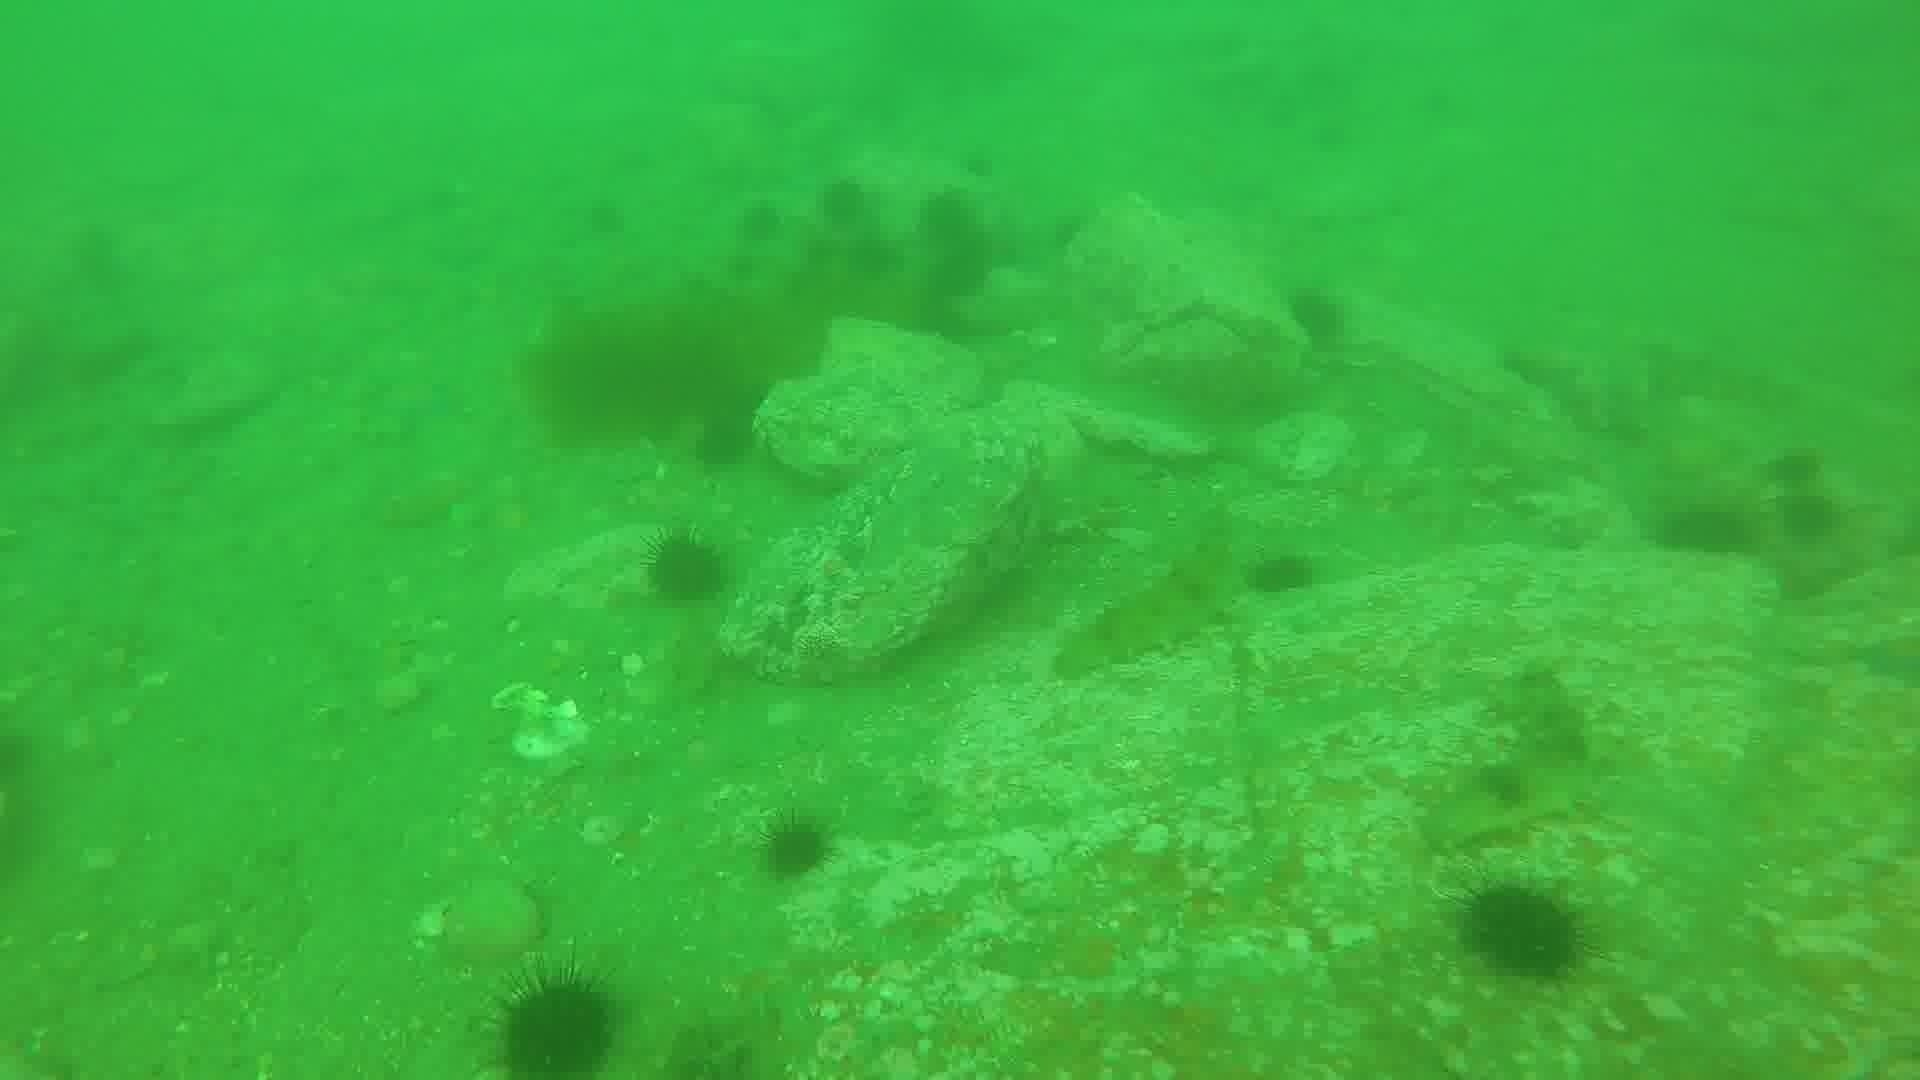echinus: (529, 323, 676, 450), (1455, 876, 1590, 986), (487, 965, 624, 1075), (640, 529, 732, 611), (1654, 497, 1755, 564), (756, 812, 837, 885), (920, 232, 997, 306), (1280, 282, 1354, 353), (687, 404, 760, 473), (913, 186, 986, 255), (1244, 546, 1321, 603), (1774, 488, 1844, 549), (812, 173, 876, 233), (1762, 442, 1830, 496), (731, 196, 789, 251)
holothurian: (1425, 665, 1605, 858), (1050, 529, 1251, 683), (1629, 331, 1803, 414)
